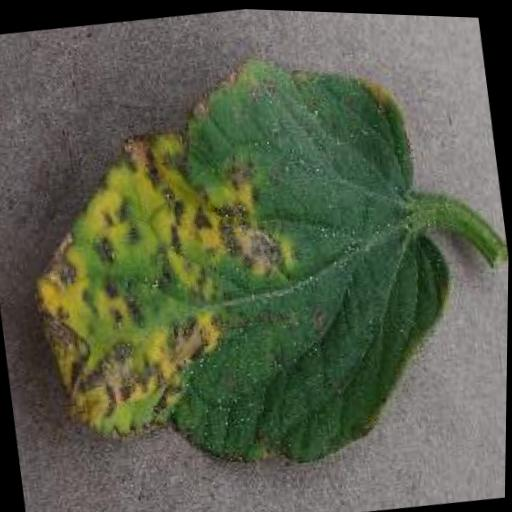Bacterial Spot: (0, 13, 512, 508)
